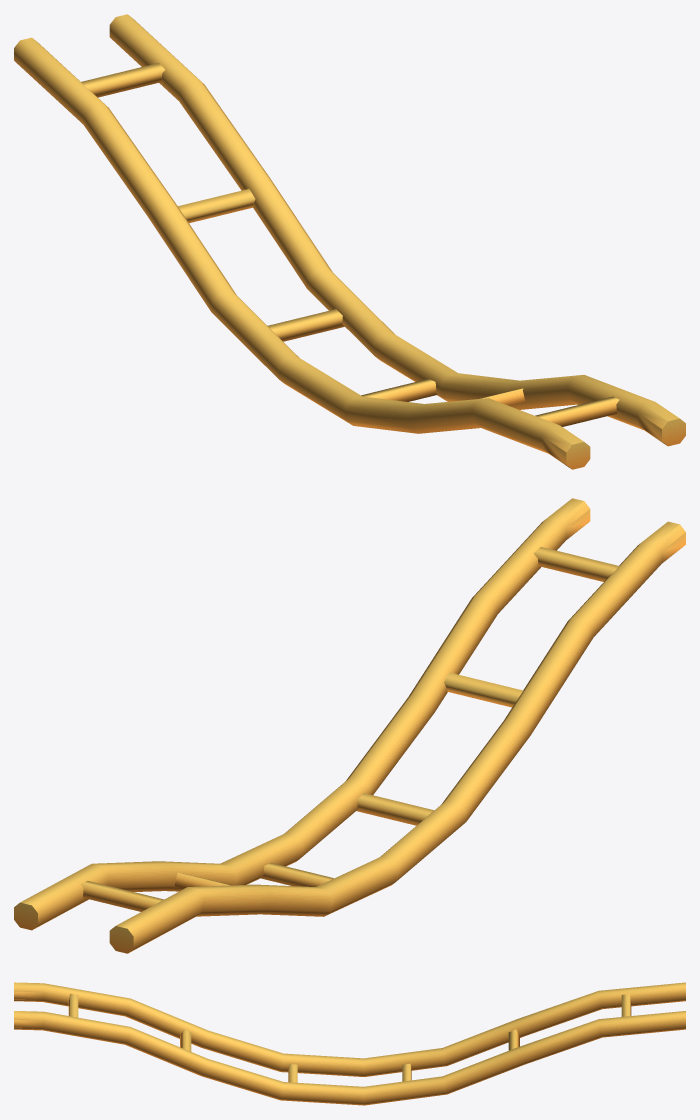
Rendered from coaster-mouse-straight-bump-down.glb.
3 views of the same model, one above another, from view 1: azimuth 30°, elevation 25°; view 2: azimuth 150°, elevation 25°; view 3: azimuth 270°, elevation 25° (orthographic). The views are drawn at different scales.
Parts seen in each view (by area): view 1: coaster-mouse-straight-bump-down; view 2: coaster-mouse-straight-bump-down; view 3: coaster-mouse-straight-bump-down.
Boxes of the visible parts, x1,y1,x2,y2 form: coaster-mouse-straight-bump-down: (14,14,685,469); coaster-mouse-straight-bump-down: (14,498,685,953); coaster-mouse-straight-bump-down: (14,982,685,1105).
Bounding box in the file's own units: 1.5 × 1.8 × 12.
Materials: 1 (1 with a texture image).
